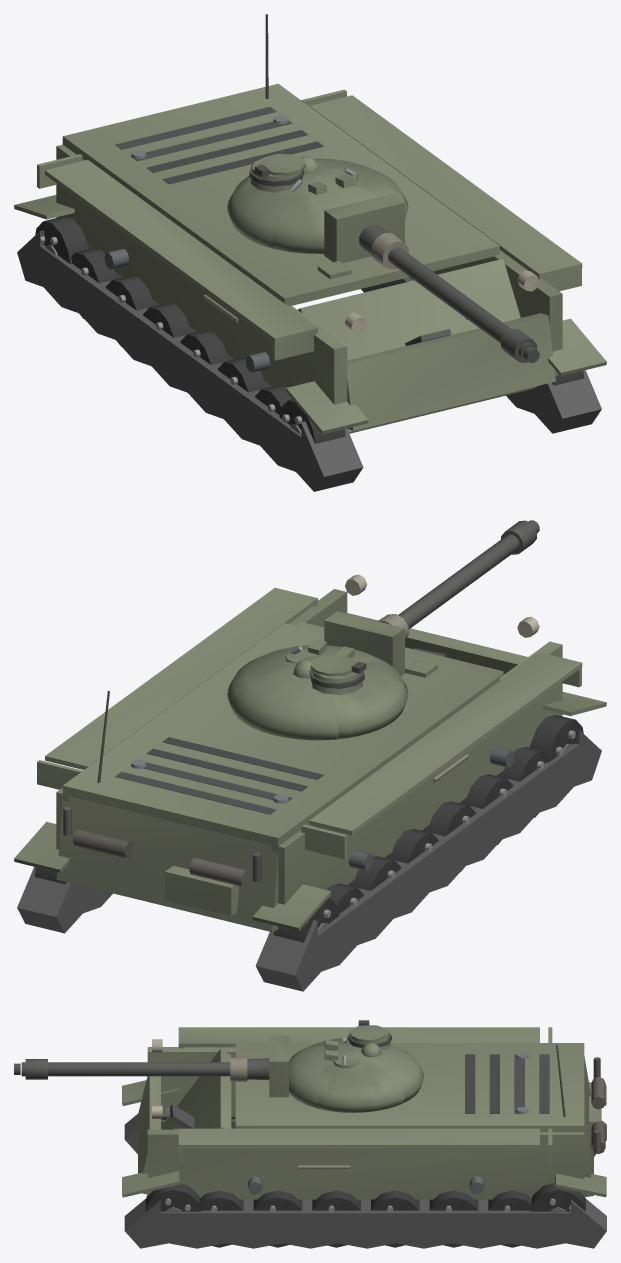
The picture shows the model from 3 angles, top to bottom: view 1: azimuth 30°, elevation 25°; view 2: azimuth 150°, elevation 25°; view 3: azimuth 270°, elevation 25°; orthographic projection. The views are drawn at different scales.
Visible parts, largest first — view 1: hullSide, hullTop, tracks, lowerPlate, glacis, barrel, turretFront, turretSide, mantlet, turretRoof, wheel7, wheel3 (+6 smaller); view 2: hullSide, hullTop, tracks, hullRear, turretRear, turretSide, barrel, mantlet, turretRoof, lowerPlate, wheel6, glacis (+8 smaller); view 3: hullSide, tracks, hullTop, barrel, turretSide, glacis, hullRear, turretFront, turretRoof, turretRear, lowerPlate, mantlet (+8 smaller).
Part boxes in pixels (x1,y1,x2,y2): hullSide: (37,89,582,429); hullTop: (62,83,499,305); tracks: (14,195,606,491); lowerPlate: (347,313,555,430); glacis: (297,259,538,433); barrel: (359,224,539,363); turretFront: (272,175,408,253); turretSide: (227,159,408,248); mantlet: (324,193,404,263); turretRoof: (249,154,358,194); wheel7: (35,216,89,263); wheel3: (180,330,234,364); hullSide: (37,574,582,928); hullTop: (62,623,499,846); tracks: (14,692,606,991); hullRear: (56,690,279,931); turretRear: (231,667,337,740); turretSide: (227,649,408,739); barrel: (377,520,539,638); mantlet: (324,611,404,676); turretRoof: (285,639,366,694); lowerPlate: (345,612,527,673); wheel6: (529,714,583,762); glacis: (298,622,504,677); hullSide: (147,1027,584,1199); tracks: (122,1080,606,1248); hullTop: (235,1043,584,1132); barrel: (14,1056,269,1081); turretSide: (317,1038,404,1112); glacis: (161,1049,231,1129); hullRear: (556,1044,605,1196); turretFront: (289,1041,352,1108); turretRoof: (324,1020,391,1068); turretRear: (353,1045,423,1103); lowerPlate: (138,1076,160,1194); mantlet: (269,1035,288,1097).
Size of the model in its own units: 4.28 by 3.09 by 9.1.
